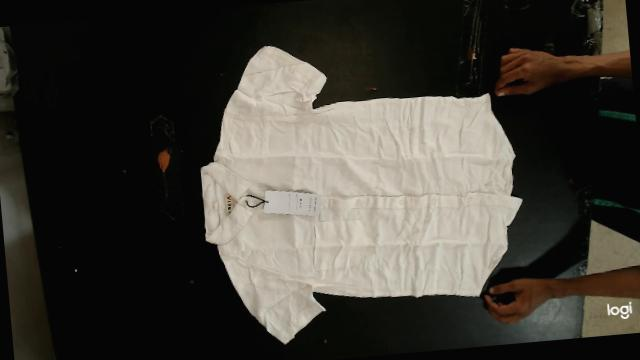new-garment: (201, 46, 522, 342)
